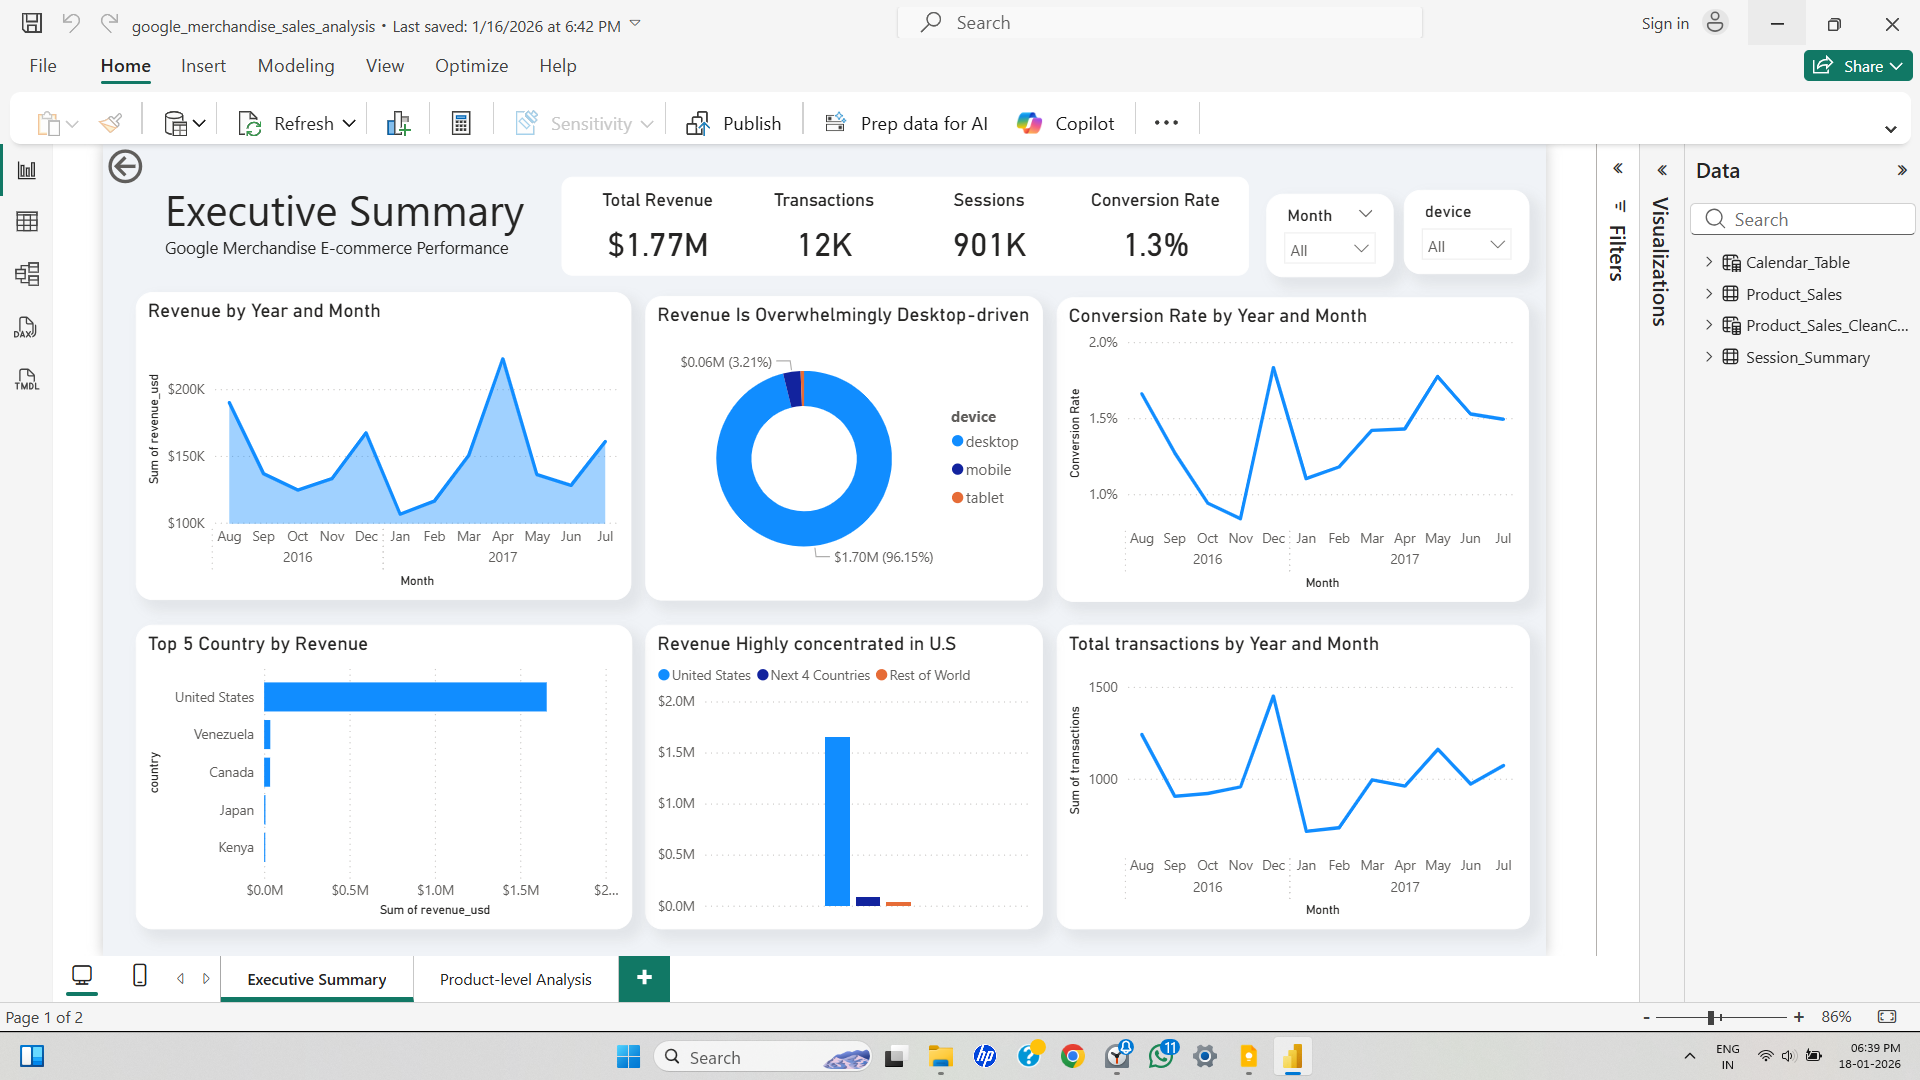

Layout of this report page (visuals, bound fields, positions):
{"tool":"powerbi","page":{"name":"Executive Summary","canvas":[1280,720],"ordinal":0},"visuals":[{"type":"actionButton","box":[0,0,100,40],"z":0},{"type":"card","title":"Total Revenue","fields":{"Values":["Sum(Query1.revenue_usd)"]},"box":[418.2,41.2,147.3,74.9],"z":0,"group":"g5"},{"type":"areaChart","title":"Revenue by Year and Month","fields":{"Category":["Calendar_Table.Date Hierarchy.Year","Calendar_Table.Date Hierarchy.Month","Calendar_Table.Date Hierarchy.Day"],"Y":["Sum(Session_Summary.revenue_usd)"]},"box":[29.1,131.7,440,273.1],"z":0,"group":"g2"},{"type":"group","id":"g1","title":"Group 3","box":[846.2,426.5,419.5,270.2],"z":0,"group":"g4"},{"type":"card","title":"Sessions","fields":{"Values":["Sum(Query1.sessions)"]},"box":[712.7,41.2,147.3,74.9],"z":1000,"group":"g5"},{"type":"group","id":"g2","title":"Group 2","box":[29.1,131.7,1236.2,274.9],"z":1000},{"type":"clusteredColumnChart","title":"Revenue Highly concentrated in U.S","fields":{"Y":["Session_Summary.Revenue - United States","Session_Summary.Revenue - Next 4 Countries","Session_Summary.Revenue - Rest of World"]},"box":[481.3,425.9,352.6,270.2],"z":1000,"group":"g4"},{"type":"group","id":"g3","title":"Group 4","box":[1031.9,40.7,234,78],"z":2000},{"type":"card","title":"Transactions","fields":{"Values":["Sum(Query1.transactions)"]},"box":[565.5,41.2,147.3,74.9],"z":2000,"group":"g5"},{"type":"slicer","fields":{"Values":["Calendar_Table.Month"]},"box":[1031.9,44.3,112.7,74.4],"z":2000,"group":"g3"},{"type":"clusteredBarChart","title":"Top 5 Country by Revenue","fields":{"Category":["Session_Summary.country"],"Y":["Sum(Session_Summary.revenue_usd)"]},"box":[29.6,425.9,440.1,270.2],"z":2000,"group":"g4"},{"type":"textbox","box":[50.2,27,347.4,92.7],"z":3000},{"type":"slicer","fields":{"Values":["Session_Summary.device_category"]},"box":[1154.4,40.7,111.5,74.7],"z":3000,"group":"g3"},{"type":"card","title":"Conversion Rate","fields":{"Values":["Session_Summary.Conversion Rate"]},"box":[860,41.2,147.3,75.7],"z":3000,"group":"g5"},{"type":"lineChart","fields":{"Category":["Calendar_Table.Date Hierarchy.Year","Calendar_Table.Date Hierarchy.Month","Calendar_Table.Date Hierarchy.Day"],"Y":["Session_Summary.Conversion Rate"]},"box":[846.2,136.4,419.2,270.2],"z":3000,"group":"g2"},{"type":"group","id":"g4","title":"Group 5","box":[29.6,425.9,1236.1,270.8],"z":4000},{"type":"shape","box":[406.6,29.6,610,87.5],"z":5000},{"type":"lineChart","title":"Total transactions by Year and Month","fields":{"Category":["Calendar_Table.Date Hierarchy.Year","Calendar_Table.Date Hierarchy.Month","Calendar_Table.Date Hierarchy.Day"],"Y":["Sum(Session_Summary.transactions)"]},"box":[846.2,426.5,419.5,270.2],"z":5000,"group":"g1"},{"type":"group","id":"g5","title":"Group 1","box":[418.2,41.2,588.1,74.6],"z":6000},{"type":"donutChart","title":"Revenue Is Overwhelmingly Desktop-driven","fields":{"Y":["Sum(Session_Summary.revenue_usd)"],"Category":["Session_Summary.device_category"]},"box":[481.4,135.6,352.3,270.2],"z":7000,"group":"g2"}]}

Visuals, with their boxes on the page's 1280x720 design canvas (x1, y1, x2, y2). These are canvas units, not pixel positions in the 1920x1080 screenshot, which may show the page scaled, cropped or inside an application window:
actionButton: 0/0/100/40
"Total Revenue" card: 418/41/566/116
"Revenue by Year and Month" areaChart: 29/132/469/405
"Group 3" group: 846/426/1266/697
"Sessions" card: 713/41/860/116
"Group 2" group: 29/132/1265/407
"Revenue Highly concentrated in U.S" clusteredColumnChart: 481/426/834/696
"Group 4" group: 1032/41/1266/119
"Transactions" card: 566/41/713/116
slicer - Calendar_Table.Month: 1032/44/1145/119
"Top 5 Country by Revenue" clusteredBarChart: 30/426/470/696
textbox: 50/27/398/120
slicer - Session_Summary.device_category: 1154/41/1266/115
"Conversion Rate" card: 860/41/1007/117
lineChart - Calendar_Table.Date Hierarchy.Year x Calendar_Table.Date Hierarchy.Month: 846/136/1265/407
"Group 5" group: 30/426/1266/697
shape: 407/30/1017/117
"Total transactions by Year and Month" lineChart: 846/426/1266/697
"Group 1" group: 418/41/1006/116
"Revenue Is Overwhelmingly Desktop-driven" donutChart: 481/136/834/406
